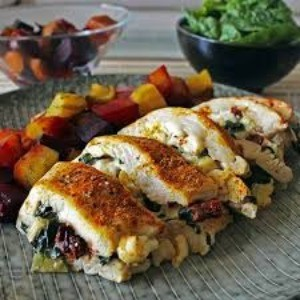chicken breast_brain food: (93, 138, 241, 227)
